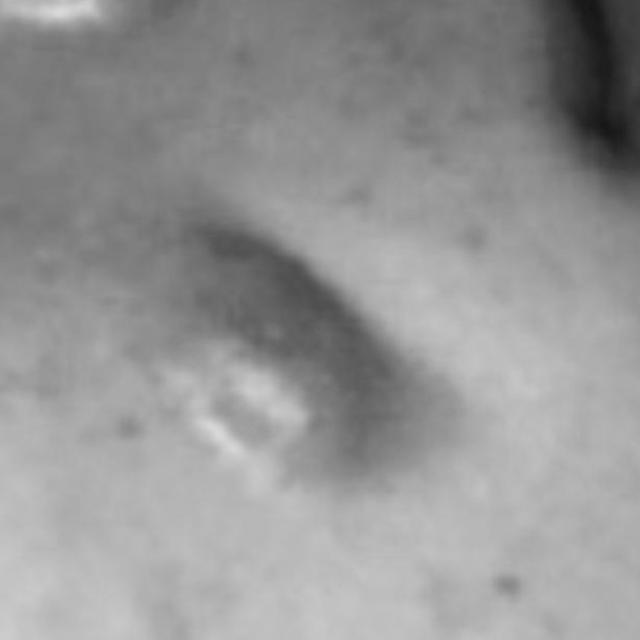nodule: (89, 218, 429, 531)
